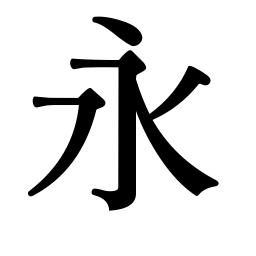D: (90, 13, 146, 47)
HSZ: (111, 49, 148, 89)
Hs: (68, 55, 99, 71)
Ne: (178, 165, 223, 200)
PNc: (141, 101, 167, 134)
PZe: (26, 173, 50, 199)
Ps: (179, 64, 213, 91)
SG: (89, 180, 139, 213)
Sm: (115, 136, 138, 169)
TPZ: (66, 87, 107, 137)
Ts: (30, 93, 53, 111)
